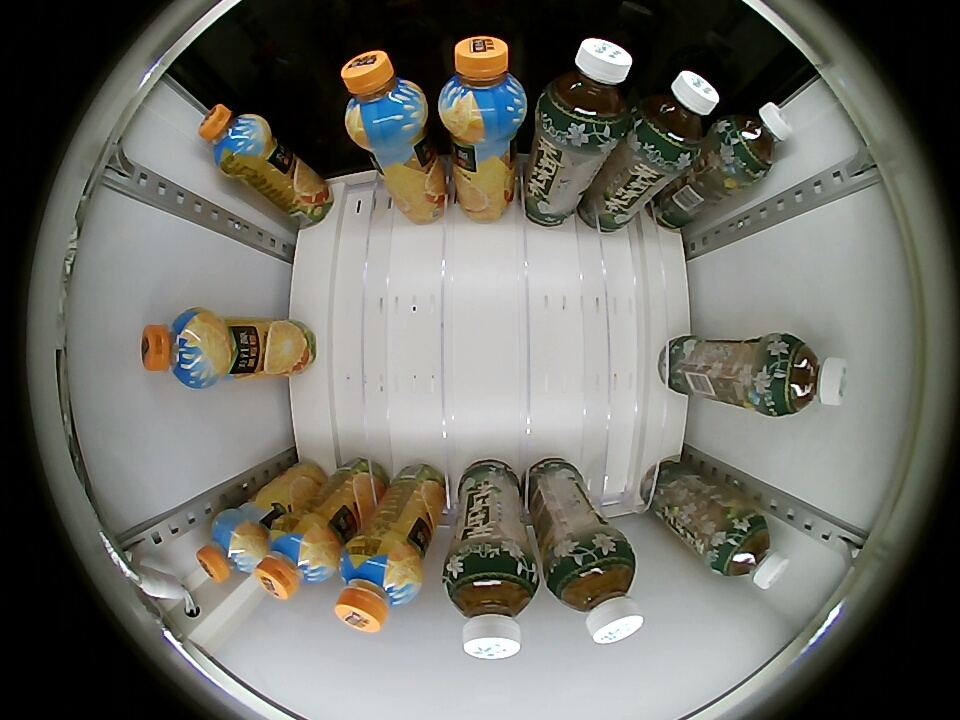guolicheng: (437, 36, 528, 142), (342, 50, 429, 150), (336, 536, 424, 632), (255, 518, 339, 600), (141, 308, 226, 389), (197, 102, 273, 177), (197, 509, 268, 583)
moliqingcha: (444, 553, 540, 660), (538, 37, 634, 143), (548, 543, 643, 646), (629, 70, 720, 164), (764, 333, 849, 417), (709, 511, 789, 589), (719, 101, 794, 177)
